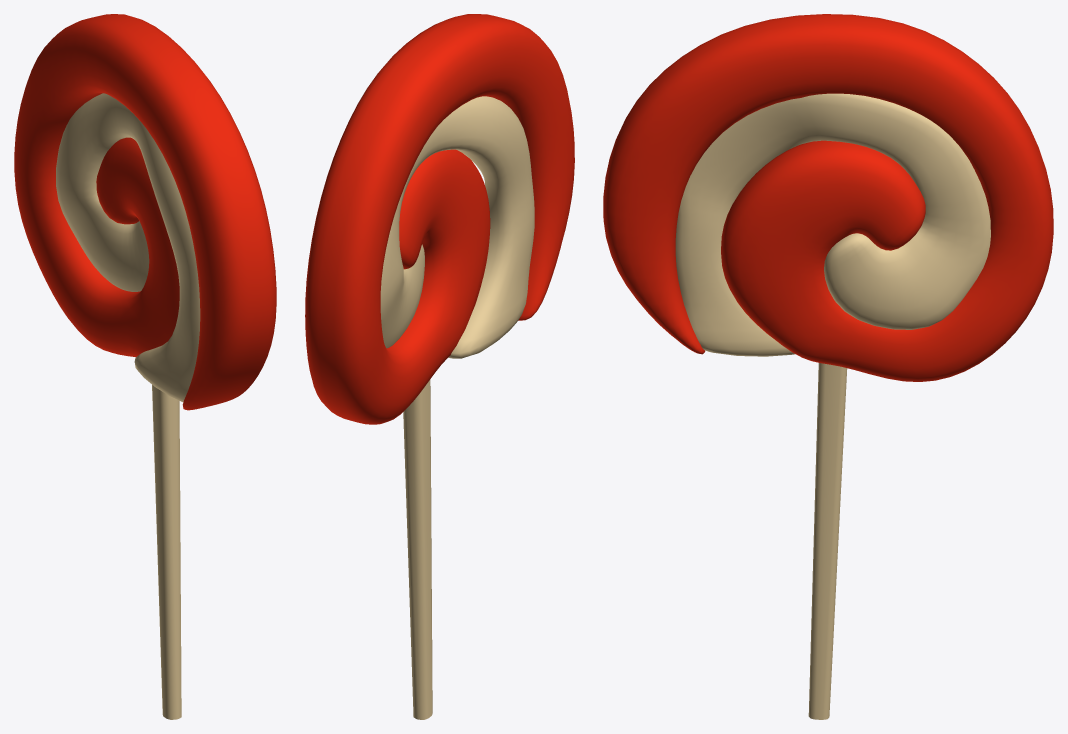
File: Sweet_10.fbx
3 views of the same model, side by side, from view 1: azimuth 30°, elevation 25°; view 2: azimuth 150°, elevation 25°; view 3: azimuth 270°, elevation 25° (orthographic).
Visible parts, largest first — view 1: Sweet_10; view 2: Sweet_10; view 3: Sweet_10.
Part boxes in pixels (x1,y1,x2,y2): Sweet_10: [14, 14, 276, 719]; Sweet_10: [305, 14, 574, 719]; Sweet_10: [603, 14, 1053, 719].
Size of the model in its own units: 11 by 84.56 by 50.3.
